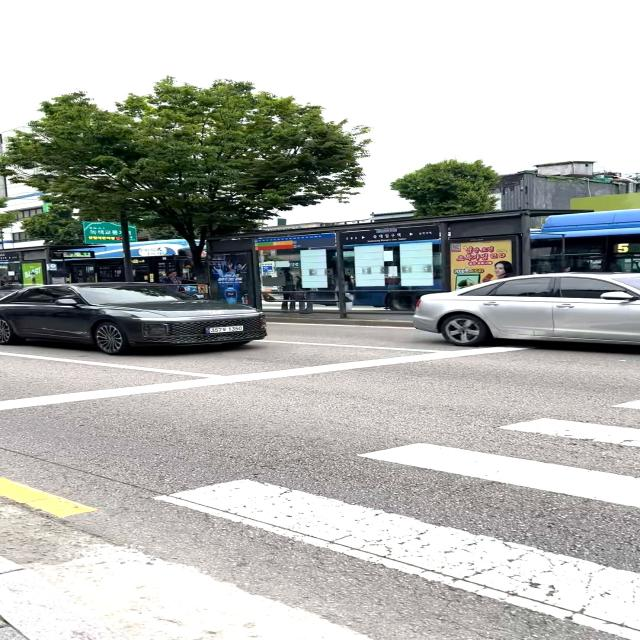building: (520, 163, 628, 204)
car: (0, 281, 267, 354), (412, 271, 640, 347)
